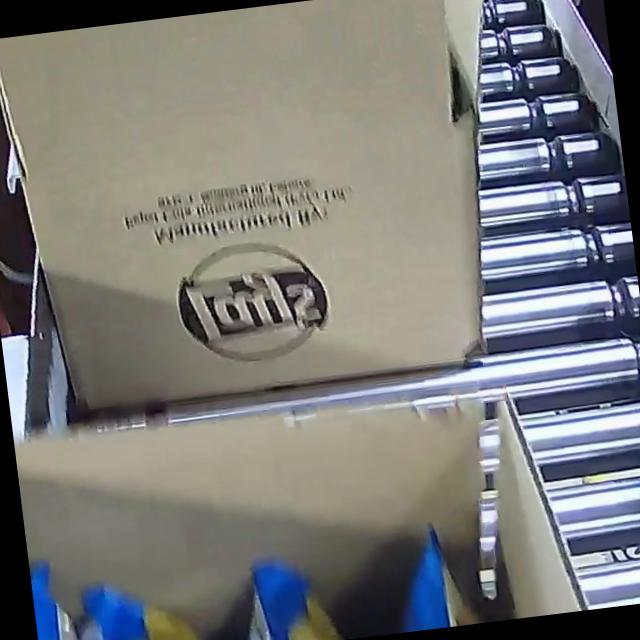paprika: (27, 501, 499, 640)
